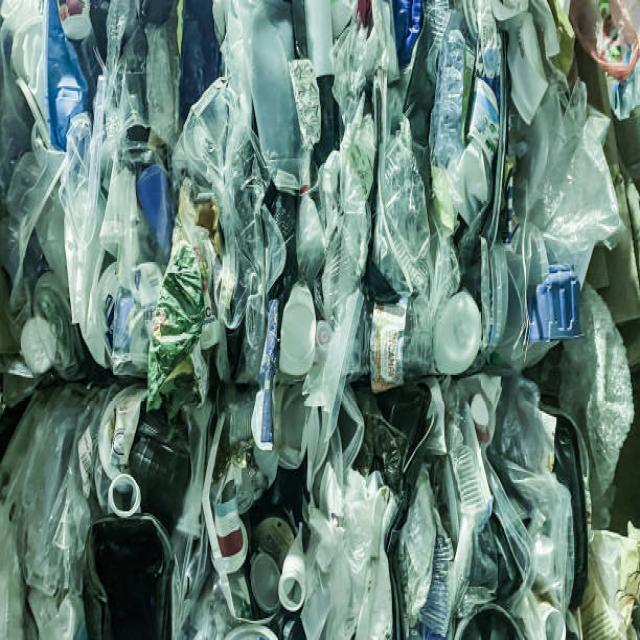plastic: (118, 64, 570, 356), (231, 427, 551, 626)
